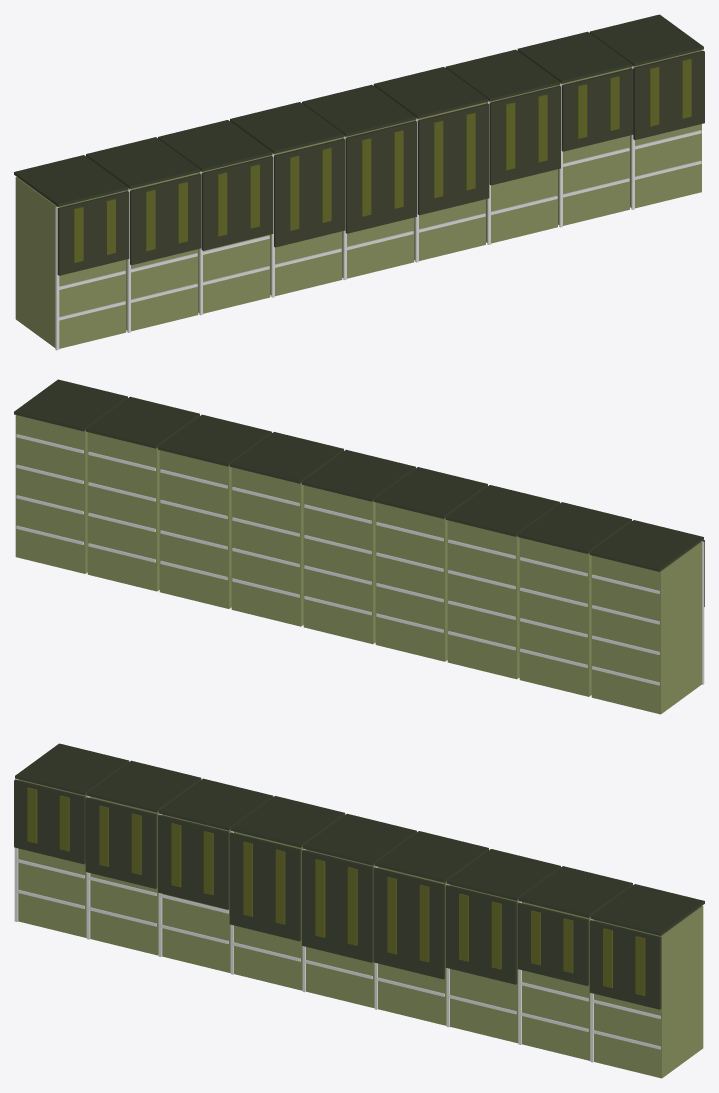
Rendered from SM_MuroHesco_v4_Red_e0_Sano_LOD0.fbx.
3 renders of one model, top to bottom at view 1: azimuth 30°, elevation 25°; view 2: azimuth 150°, elevation 25°; view 3: azimuth 330°, elevation 25°, orthographic.
Visible parts, largest first — view 1: SM_bloques.muro_hesco_estados_v16_LOD0; view 2: SM_bloques.muro_hesco_estados_v16_LOD0; view 3: SM_bloques.muro_hesco_estados_v16_LOD0.
Part boxes in pixels (box(x1,y1,x2,y2)): SM_bloques.muro_hesco_estados_v16_LOD0: box(14, 14, 704, 350); SM_bloques.muro_hesco_estados_v16_LOD0: box(14, 379, 704, 714); SM_bloques.muro_hesco_estados_v16_LOD0: box(14, 743, 704, 1078).
Bounding box in the file's own units: 9.99 × 2.16 × 1.23.
